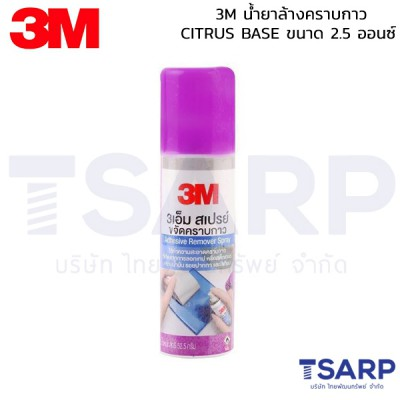Cleaning_solution: (152, 59, 238, 362)
